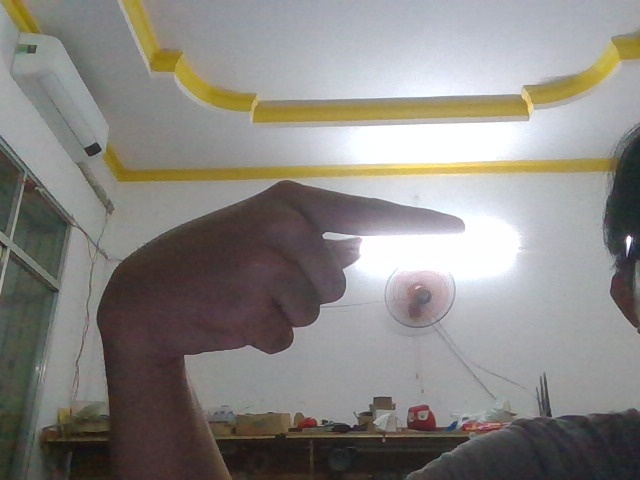turn_left: (80, 165, 474, 367)
